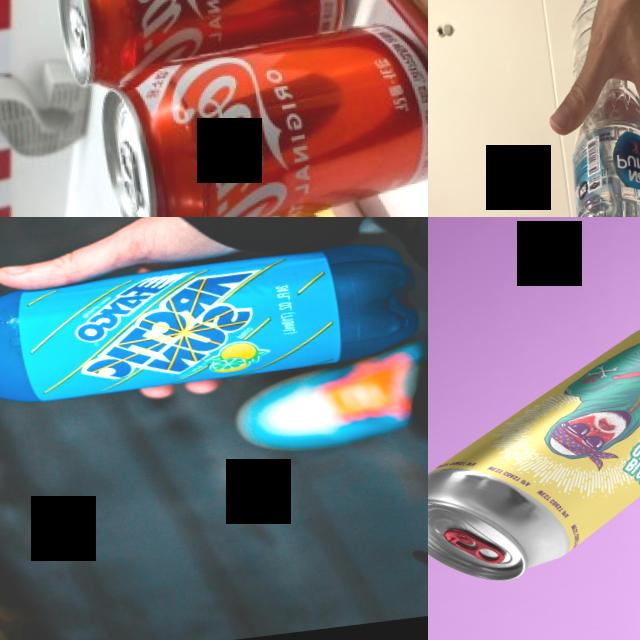bottle: (0, 235, 419, 417), (549, 0, 640, 217)
can: (92, 9, 428, 217), (428, 302, 640, 596), (46, 0, 370, 101)
